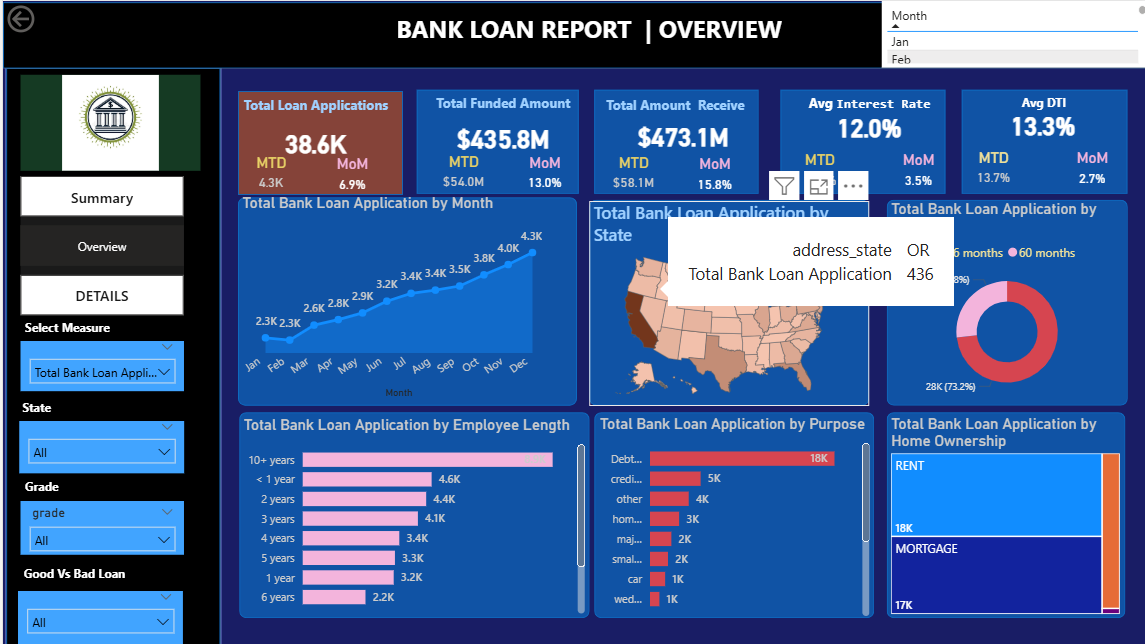

The dashboard page shown, as its layout file describes it:
{"tool":"powerbi","page":{"name":"Overview","canvas":[1280,720],"ordinal":1},"visuals":[{"type":"shape","box":[867.1,99.7,184,116.3],"z":0},{"type":"card","fields":{"Values":["financial_loan.Total Amount Recived"]},"box":[692.9,105.9,131.7,88.2],"z":0,"group":"g5"},{"type":"card","fields":{"Values":["financial_loan.Total Funded Amount"]},"box":[492.4,108.7,131.7,88.2],"z":0,"group":"g4"},{"type":"card","fields":{"Values":["financial_loan.Total Bank Loan Application"]},"box":[283.2,114.4,131.7,88.2],"z":0,"group":"g2"},{"type":"group","id":"g1","title":"Group 3","box":[875.5,96.7,180.7,121.9],"z":1000},{"type":"textbox","box":[479.1,99.5,217.1,40.6],"z":1000,"group":"g4"},{"type":"textbox","box":[263.6,100.4,217.1,40.6],"z":1000,"group":"g2"},{"type":"textbox","box":[668.2,100.9,217.1,40.6],"z":1000,"group":"g5"},{"type":"card","fields":{"Values":["financial_loan.Avg DTI"]},"box":[1095.2,93.9,131.2,88.8],"z":2000,"group":"g3"},{"type":"card","fields":{"Values":["financial_loan.Avg Interest Rate"]},"box":[900.5,96.7,131.2,88.8],"z":2000,"group":"g6"},{"type":"shape","box":[1070.2,99.7,184.9,116.3],"z":2000},{"type":"card","title":"MTD ","fields":{"Values":["financial_loan.MTD Total Funded Amount"]},"box":[479.1,169.5,71.4,49],"z":2000,"group":"g4"},{"type":"card","title":"MTD ","fields":{"Values":["financial_loan.MTD Loan Application"]},"box":[263.6,170.4,71.4,49],"z":2000,"group":"g2"},{"type":"card","title":"MTD ","fields":{"Values":["financial_loan.MTD Total Amount Recived"]},"box":[668.2,170.9,71.4,49],"z":2000,"group":"g5"},{"type":"card","title":"MoM","fields":{"Values":["financial_loan.MoM Total Funded Amount"]},"box":[570.1,170.9,71.4,49],"z":3000,"group":"g4"},{"type":"card","title":"MoM","fields":{"Values":["financial_loan.MoM Loan Application"]},"box":[354.6,171.8,71.4,49],"z":3000,"group":"g2"},{"type":"card","title":"MoM","fields":{"Values":["financial_loan.MoM Total Amount Recived"]},"box":[759.2,172.3,71.4,49],"z":3000,"group":"g5"},{"type":"shape","box":[261.9,218.5,378.2,232.5],"z":3000},{"type":"shape","box":[2.8,74.2,240.9,645.7],"z":4000},{"type":"shape","box":[261.9,99.8,184,116],"z":5000},{"type":"card","title":"MTD ","fields":{"Values":["financial_loan.MTD Avg DTI"]},"box":[1070.2,165.1,71.2,48.8],"z":5000,"group":"g3"},{"type":"card","title":"MTD ","fields":{"Values":["financial_loan.MTD Avg Int Rate"]},"box":[875.5,167.9,71.2,48.8],"z":5000,"group":"g6"},{"type":"shape","box":[0,1.4,1280.3,73.9],"z":6000},{"type":"group","id":"g2","title":"Group 2","box":[263.6,100.4,217.6,119.9],"z":7000},{"type":"card","title":"MoM","fields":{"Values":["financial_loan.MoM Avg DTI"]},"box":[1180.2,165.1,71.2,50],"z":7000,"group":"g3"},{"type":"card","title":"MoM","fields":{"Values":["financial_loan.MoM Avg Int Rate"]},"box":[985.5,167.9,71.2,50],"z":7000,"group":"g6"},{"type":"textbox","box":[433.6,6.9,746.5,61.7],"z":8000},{"type":"shape","box":[659.8,99.7,183.5,116.3],"z":9000},{"type":"shape","box":[462.2,99.7,180.7,116.3],"z":10000},{"type":"actionButton","box":[0,0,100,40],"z":11000},{"type":"group","id":"g3","title":"Group 4","box":[1070.2,93.9,182.1,121.9],"z":12000},{"type":"group","id":"g4","title":"Group 5","box":[479.1,99.5,217.1,120.5],"z":13000},{"type":"textbox","box":[885.5,99.2,162.5,38.8],"z":14000,"group":"g6"},{"type":"group","id":"g5","title":"Group 6","box":[668.2,100.9,217.1,120.5],"z":14000},{"type":"textbox","box":[1071.6,99.5,180.7,33.6],"z":15000},{"type":"slicer","fields":{"Values":["financial_loan.address_state"]},"box":[18.1,468.6,184.1,58.6],"z":16000},{"type":"textbox","box":[16.7,439.3,62.8,40.4],"z":17000},{"type":"slicer","fields":{"Values":["financial_loan.grade"]},"box":[19.5,557.9,182.7,60],"z":18000},{"type":"slicer","fields":{"Values":["financial_loan.Good vs Bad Loan"]},"box":[16.7,658.3,184.1,61.4],"z":19000},{"type":"textbox","box":[19.5,527.2,92,50.2],"z":20000},{"type":"slicer","fields":{"Values":["Select Measure.Select Measure"]},"box":[19.5,379.3,182.7,55.8],"z":21000},{"type":"areaChart","fields":{"Y":["financial_loan.Total Bank Loan Application"],"Category":["Date Table.Month"]},"box":[261.9,214.3,344.6,233.9],"z":22000},{"type":"textbox","box":[19.5,350.1,140.9,47.4],"z":23000},{"type":"shape","box":[654.1,221.3,312.4,229.7],"z":24000},{"type":"shape","box":[986.1,221.3,268.9,229.7],"z":25000},{"type":"donutChart","fields":{"Y":["financial_loan.Total Bank Loan Application"],"Category":["financial_loan.term"]},"box":[986.1,221.3,268.9,226.9],"z":26000},{"type":"shape","box":[263.3,459.4,390.8,229.7],"z":27000},{"type":"barChart","fields":{"Y":["financial_loan.Total Bank Loan Application"],"Category":["financial_loan.emp_length"]},"box":[263.3,463.6,390.8,225.5],"z":28000},{"type":"shape","box":[659.8,459.4,312.4,229.7],"z":29000},{"type":"barChart","fields":{"Y":["financial_loan.Total Bank Loan Application"],"Category":["financial_loan.purpose"]},"box":[661.2,462.2,311,229.7],"z":30000},{"type":"shape","box":[986.1,459.4,266.1,229.7],"z":31000},{"type":"treemap","fields":{"Values":["financial_loan.Total Bank Loan Application"],"Group":["financial_loan.home_ownership"]},"box":[986,461.6,265,227.3],"z":32000},{"type":"textbox","box":[18.1,624.8,140.9,33.5],"z":33000},{"type":"group","id":"g6","title":"Group 7","box":[875.5,96.7,181.2,121.2],"z":33001,"group":"g1"},{"type":"pageNavigator","box":[19.5,195.3,182.7,156.2],"z":34000},{"type":"shapeMap","title":"Total Bank Loan Application by State","fields":{"Value":["financial_loan.Total Bank Loan Application"],"Category":["financial_loan.address_state"]},"box":[654.1,223.1,312.4,228.7],"z":35000},{"type":"image","box":[19.5,82.3,200.8,107.4],"z":36000},{"type":"tableEx","fields":{"Values":["Date Table.Month"]},"box":[980.3,0,300,74.2],"z":37000}]}

Visuals, with their boxes on the page's 1280x720 design canvas (x1, y1, x2, y2). These are canvas units, not pixel positions in the 1145x644 screenshot, which may show the page scaled, cropped or inside an application window:
shape: bbox=[867, 100, 1051, 216]
card - financial_loan.Total Amount Recived: bbox=[693, 106, 825, 194]
card - financial_loan.Total Funded Amount: bbox=[492, 109, 624, 197]
card - financial_loan.Total Bank Loan Application: bbox=[283, 114, 415, 203]
"Group 3" group: bbox=[876, 97, 1056, 219]
textbox: bbox=[479, 100, 696, 140]
textbox: bbox=[264, 100, 481, 141]
textbox: bbox=[668, 101, 885, 142]
card - financial_loan.Avg DTI: bbox=[1095, 94, 1226, 183]
card - financial_loan.Avg Interest Rate: bbox=[900, 97, 1032, 186]
shape: bbox=[1070, 100, 1255, 216]
"MTD " card: bbox=[479, 170, 550, 218]
"MTD " card: bbox=[264, 170, 335, 219]
"MTD " card: bbox=[668, 171, 740, 220]
"MoM" card: bbox=[570, 171, 642, 220]
"MoM" card: bbox=[355, 172, 426, 221]
"MoM" card: bbox=[759, 172, 831, 221]
shape: bbox=[262, 218, 640, 451]
shape: bbox=[3, 74, 244, 720]
shape: bbox=[262, 100, 446, 216]
"MTD " card: bbox=[1070, 165, 1141, 214]
"MTD " card: bbox=[876, 168, 947, 217]
shape: bbox=[0, 1, 1280, 75]
"Group 2" group: bbox=[264, 100, 481, 220]
"MoM" card: bbox=[1180, 165, 1251, 215]
"MoM" card: bbox=[986, 168, 1057, 218]
textbox: bbox=[434, 7, 1180, 69]
shape: bbox=[660, 100, 843, 216]
shape: bbox=[462, 100, 643, 216]
actionButton: bbox=[0, 0, 100, 40]
"Group 4" group: bbox=[1070, 94, 1252, 216]
"Group 5" group: bbox=[479, 100, 696, 220]
textbox: bbox=[886, 99, 1048, 138]
"Group 6" group: bbox=[668, 101, 885, 221]
textbox: bbox=[1072, 100, 1252, 133]
slicer - financial_loan.address_state: bbox=[18, 469, 202, 527]
textbox: bbox=[17, 439, 80, 480]
slicer - financial_loan.grade: bbox=[20, 558, 202, 618]
slicer - financial_loan.Good vs Bad Loan: bbox=[17, 658, 201, 720]
textbox: bbox=[20, 527, 112, 577]
slicer - Select Measure.Select Measure: bbox=[20, 379, 202, 435]
areaChart - financial_loan.Total Bank Loan Application x Date Table.Month: bbox=[262, 214, 606, 448]
textbox: bbox=[20, 350, 160, 398]
shape: bbox=[654, 221, 966, 451]
shape: bbox=[986, 221, 1255, 451]
donutChart - financial_loan.Total Bank Loan Application x financial_loan.term: bbox=[986, 221, 1255, 448]
shape: bbox=[263, 459, 654, 689]
barChart - financial_loan.Total Bank Loan Application x financial_loan.emp_length: bbox=[263, 464, 654, 689]
shape: bbox=[660, 459, 972, 689]
barChart - financial_loan.Total Bank Loan Application x financial_loan.purpose: bbox=[661, 462, 972, 692]
shape: bbox=[986, 459, 1252, 689]
treemap - financial_loan.Total Bank Loan Application x financial_loan.home_ownership: bbox=[986, 462, 1251, 689]
textbox: bbox=[18, 625, 159, 658]
"Group 7" group: bbox=[876, 97, 1057, 218]
pageNavigator: bbox=[20, 195, 202, 352]
"Total Bank Loan Application by State" shapeMap: bbox=[654, 223, 966, 452]
image: bbox=[20, 82, 220, 190]
tableEx - Date Table.Month: bbox=[980, 0, 1280, 74]
